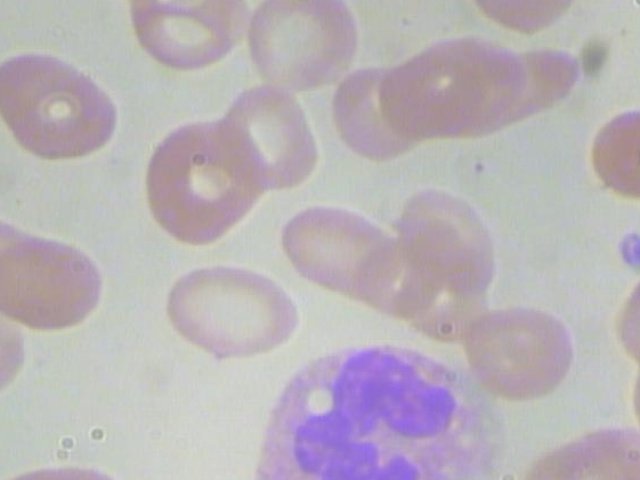Platelets: (607, 227, 640, 275)
RBC: (129, 115, 278, 247), (147, 256, 301, 368), (271, 189, 399, 309), (0, 48, 131, 160), (463, 290, 577, 405), (232, 0, 366, 94), (0, 227, 112, 335), (374, 51, 493, 150), (396, 180, 497, 296), (578, 94, 640, 208)
WBC: (245, 344, 517, 480)
